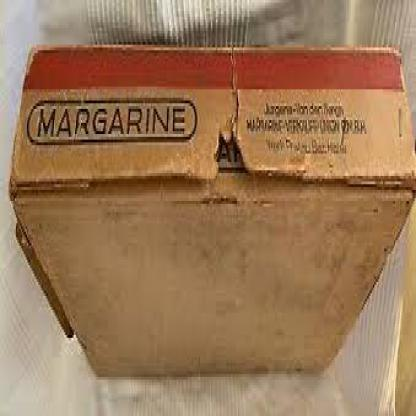CARDBOARD: (7, 39, 415, 380)
